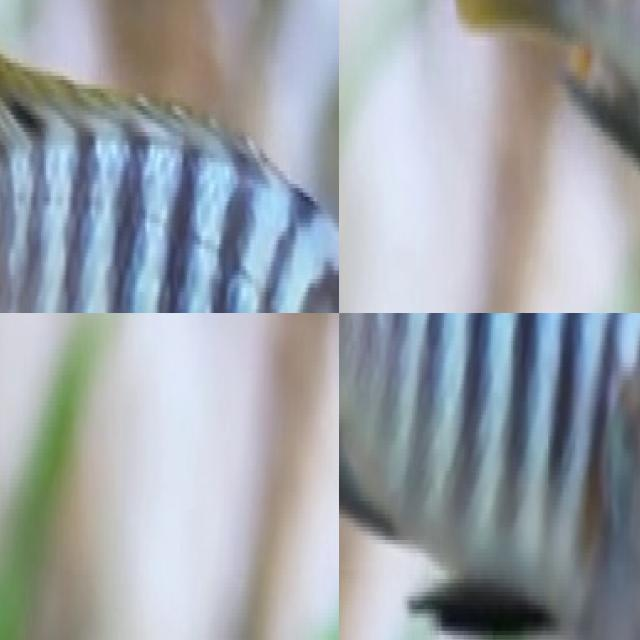fish: (0, 0, 339, 313), (339, 313, 640, 640)
